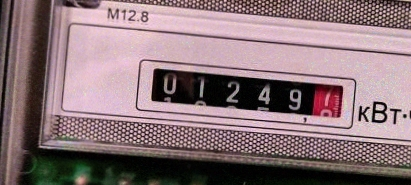0: (161, 69, 178, 95)
1: (193, 72, 207, 99)
2: (223, 79, 240, 105)
4: (256, 80, 272, 105)
7: (320, 82, 335, 108)
9: (285, 85, 302, 111)
screen: (134, 57, 359, 132)
